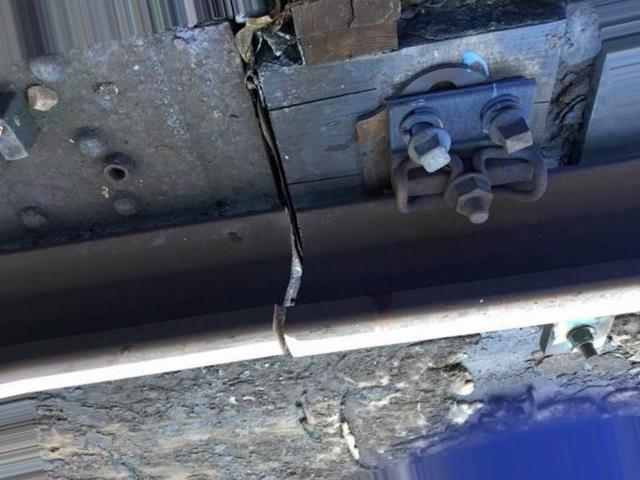tracks_fault: (258, 192, 340, 379)
